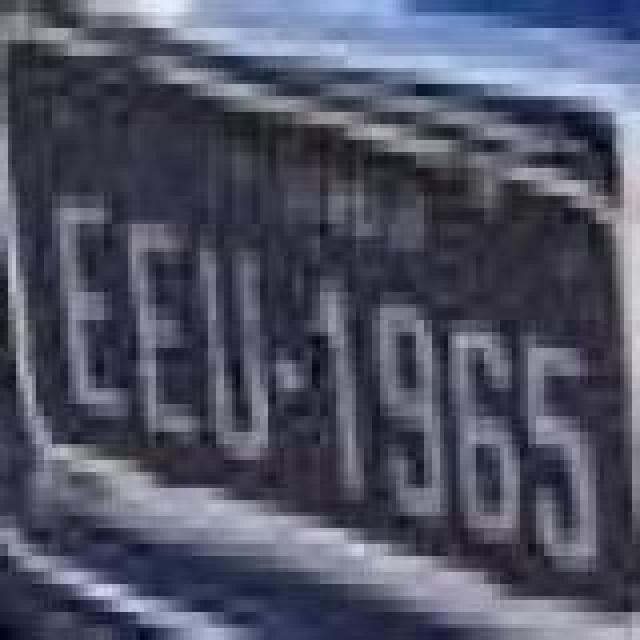1: (300, 274, 372, 510)
5: (520, 342, 600, 578)
6: (448, 328, 528, 552)
9: (368, 290, 448, 526)
E: (120, 218, 200, 454), (48, 192, 128, 416)
U: (202, 234, 278, 470)
